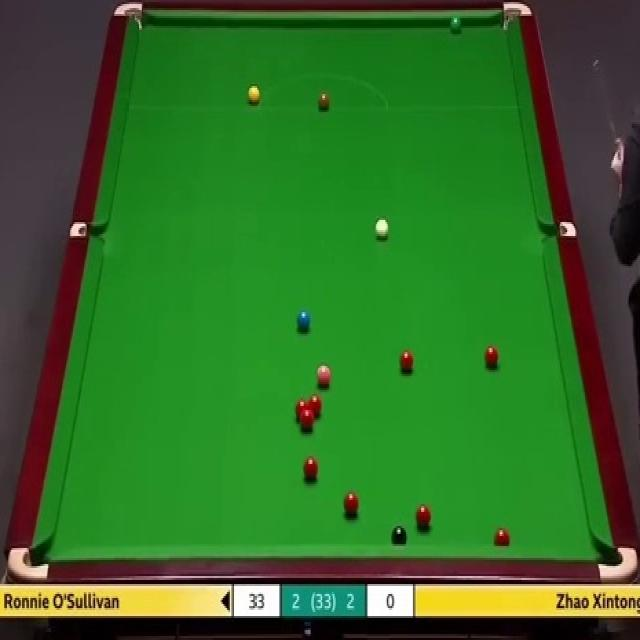black-ball: (391, 523, 406, 543)
blue-ball: (295, 308, 310, 331)
brown-ball: (317, 88, 331, 111)
green-ball: (450, 14, 463, 30)
pink-ball: (316, 359, 331, 385)
red-ball: (343, 489, 359, 517), (415, 502, 432, 528), (304, 455, 319, 480), (485, 346, 499, 370), (495, 526, 511, 546), (401, 349, 413, 373), (301, 408, 314, 430), (309, 393, 322, 415), (296, 399, 308, 412)
white-ball: (373, 216, 390, 241)
yellow-ball: (247, 83, 260, 103)
